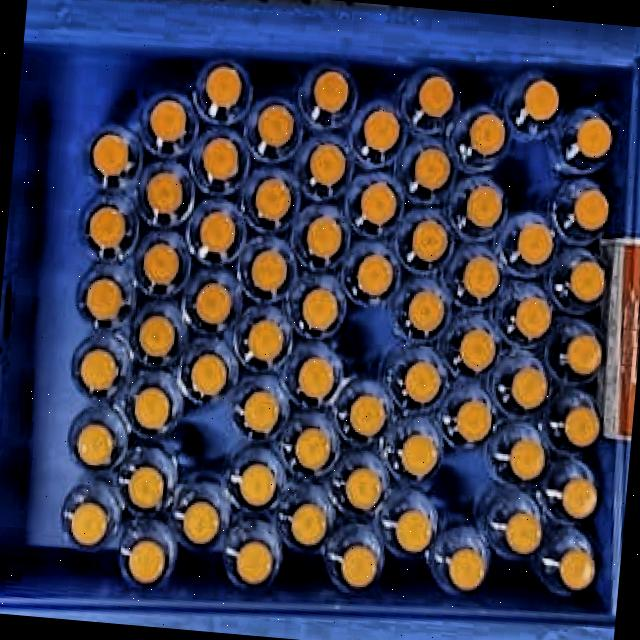vial: (127, 537, 169, 588), (557, 475, 600, 522), (240, 387, 283, 434), (398, 432, 440, 480), (181, 500, 221, 549), (126, 463, 166, 512), (74, 421, 115, 468), (234, 539, 274, 587), (238, 461, 277, 510), (406, 288, 448, 332), (345, 463, 386, 508), (456, 328, 496, 373), (190, 349, 229, 395), (137, 311, 176, 357), (70, 500, 108, 547), (448, 548, 488, 592), (252, 176, 292, 220), (562, 332, 601, 377), (510, 365, 549, 410), (569, 259, 607, 305), (340, 542, 376, 590), (507, 440, 548, 482), (297, 358, 337, 401), (460, 255, 499, 299), (504, 510, 543, 554), (396, 508, 434, 553), (405, 359, 442, 405), (290, 501, 326, 548), (244, 318, 284, 360), (301, 287, 340, 330), (144, 171, 183, 214), (308, 143, 346, 187), (294, 427, 332, 471), (149, 99, 186, 144), (133, 386, 170, 431), (80, 346, 116, 392), (194, 284, 234, 325), (558, 548, 596, 591), (250, 249, 288, 292), (202, 136, 239, 180), (91, 133, 128, 177), (348, 393, 386, 435), (356, 254, 394, 296), (575, 188, 612, 231), (411, 220, 448, 263), (456, 399, 493, 442), (86, 277, 123, 320), (198, 210, 235, 253), (576, 115, 613, 157), (258, 104, 295, 146), (514, 296, 551, 338), (89, 206, 125, 249), (313, 71, 349, 112), (143, 243, 179, 284), (526, 77, 558, 123), (363, 109, 398, 151), (305, 217, 342, 256), (418, 76, 454, 116), (470, 113, 505, 154), (361, 183, 396, 224), (414, 148, 450, 187), (564, 407, 600, 446), (207, 65, 241, 106), (467, 188, 501, 228), (519, 223, 553, 263)
